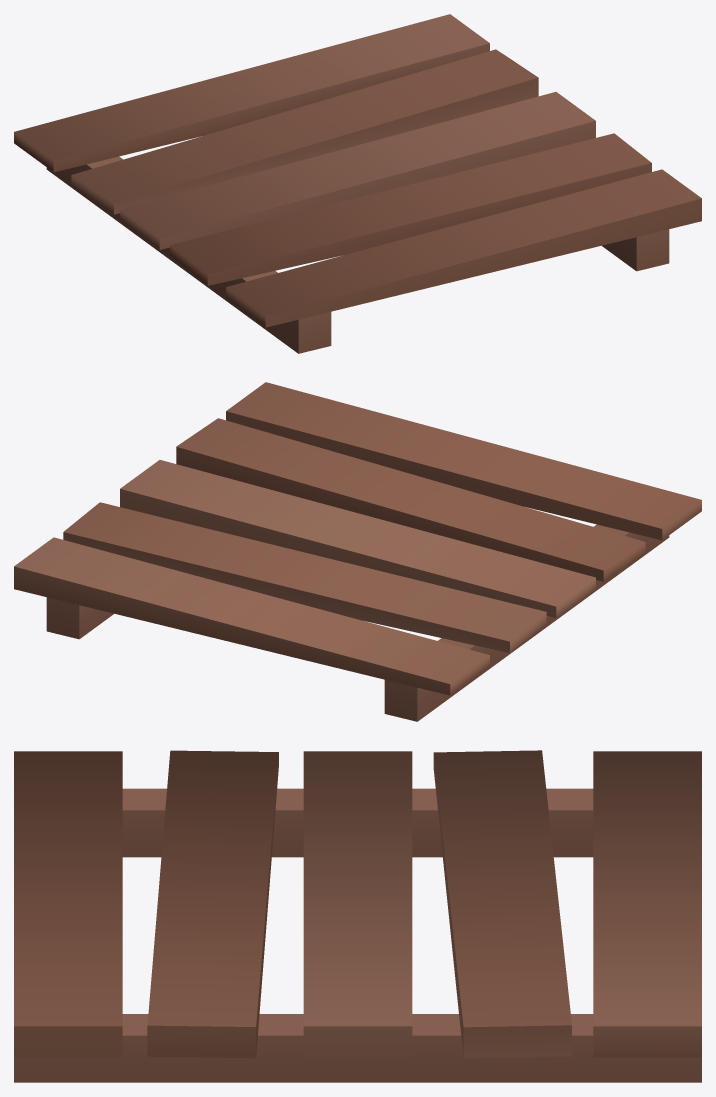
Rendered from kenney-modular-cave-template-floor-layer.glb.
The picture shows the model from 3 angles, top to bottom: view 1: azimuth 30°, elevation 25°; view 2: azimuth 150°, elevation 25°; view 3: azimuth 270°, elevation 25°; orthographic projection. The views are drawn at different scales.
Visible parts, largest first — view 1: template-floor-layer; view 2: template-floor-layer; view 3: template-floor-layer.
Part boxes in pixels (<box>): template-floor-layer: <box>14,14,701,353</box>; template-floor-layer: <box>14,382,701,721</box>; template-floor-layer: <box>14,750,701,1082</box>.
Bounding box in the file's own units: 4.02 × 0.5 × 4.
Materials: 1 (1 with a texture image).
